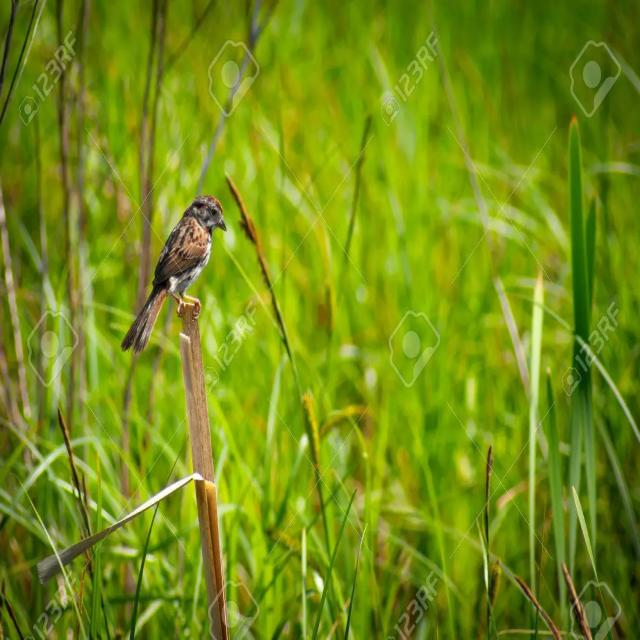bird: (116, 182, 234, 352)
